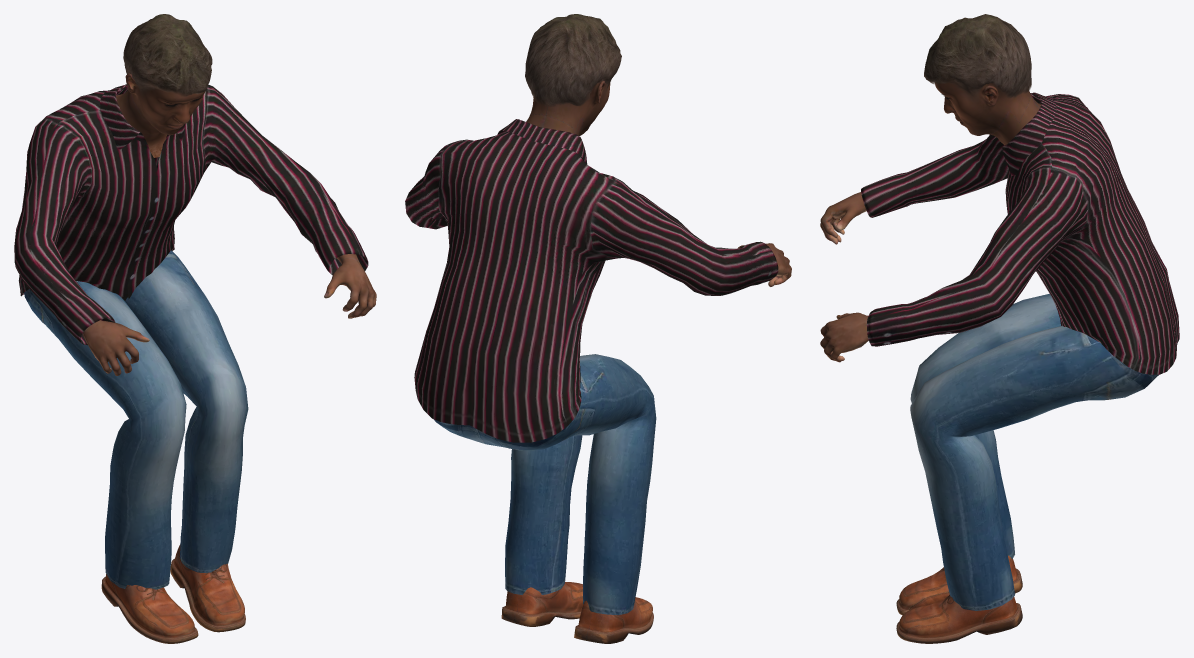
Rendered from uomo-02.glb.
The picture shows the model from 3 angles, left to right: view 1: azimuth 30°, elevation 25°; view 2: azimuth 150°, elevation 25°; view 3: azimuth 270°, elevation 25°; orthographic projection. The views are drawn at different scales.
Parts seen in each view (by area): view 1: Human.male_casualsuit03, Human, Human.shoes01, Human.short02; view 2: Human.male_casualsuit03, Human.short02, Human.shoes01, Human; view 3: Human.male_casualsuit03, Human, Human.short02, Human.shoes01.
Boxes of the visible parts, x1,y1,x2,y2 form: Human.male_casualsuit03: (14, 84, 368, 589); Human: (82, 73, 376, 375); Human.shoes01: (101, 544, 245, 643); Human.short02: (123, 14, 212, 96); Human.male_casualsuit03: (405, 119, 778, 615); Human.short02: (525, 14, 621, 106); Human.shoes01: (501, 582, 653, 643); Human: (526, 81, 791, 286); Human.male_casualsuit03: (861, 92, 1179, 610); Human: (820, 81, 1041, 362); Human.short02: (924, 14, 1031, 101); Human.shoes01: (896, 555, 1022, 643).
Size of the model in its own units: 0.7953 by 1.46 by 0.7902.
Materials: 12 (12 with a texture image).
